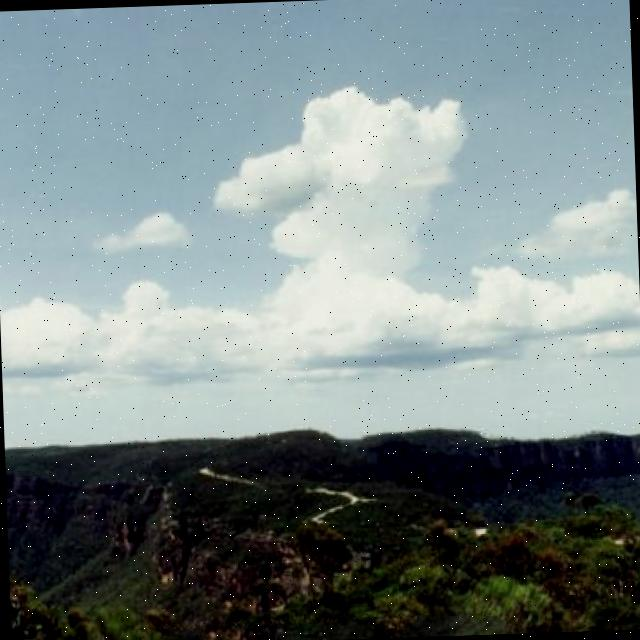Cu: (1, 50, 640, 399)
